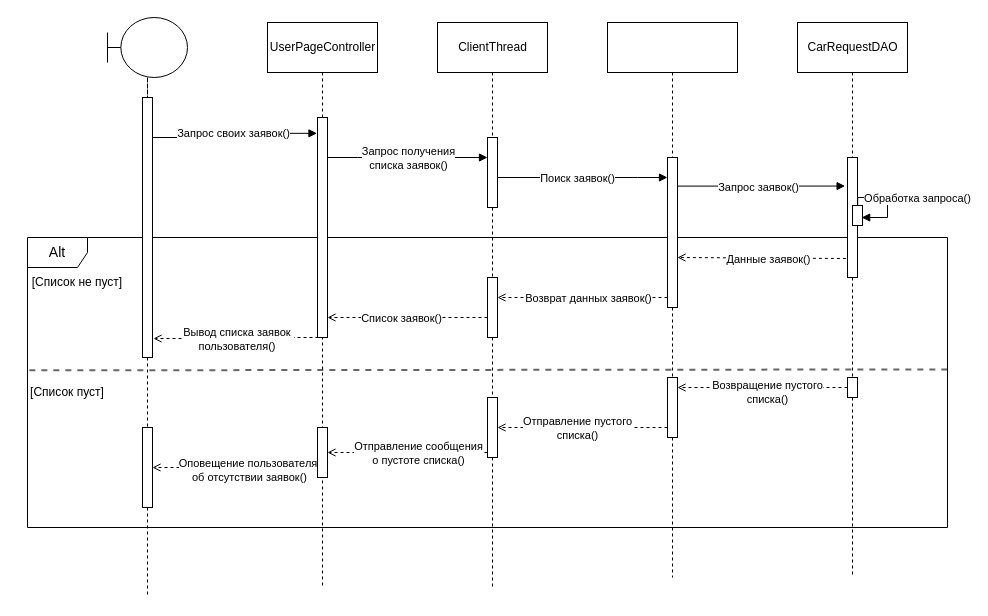
Some shapes in this 988 by 616 pixel diagram are drawn without their labels. Here are the shapes that lost their labels. From the top down, the centre of each, then its label:
the point at 147,47: User Interface
the point at 672,47: CarRequestService
